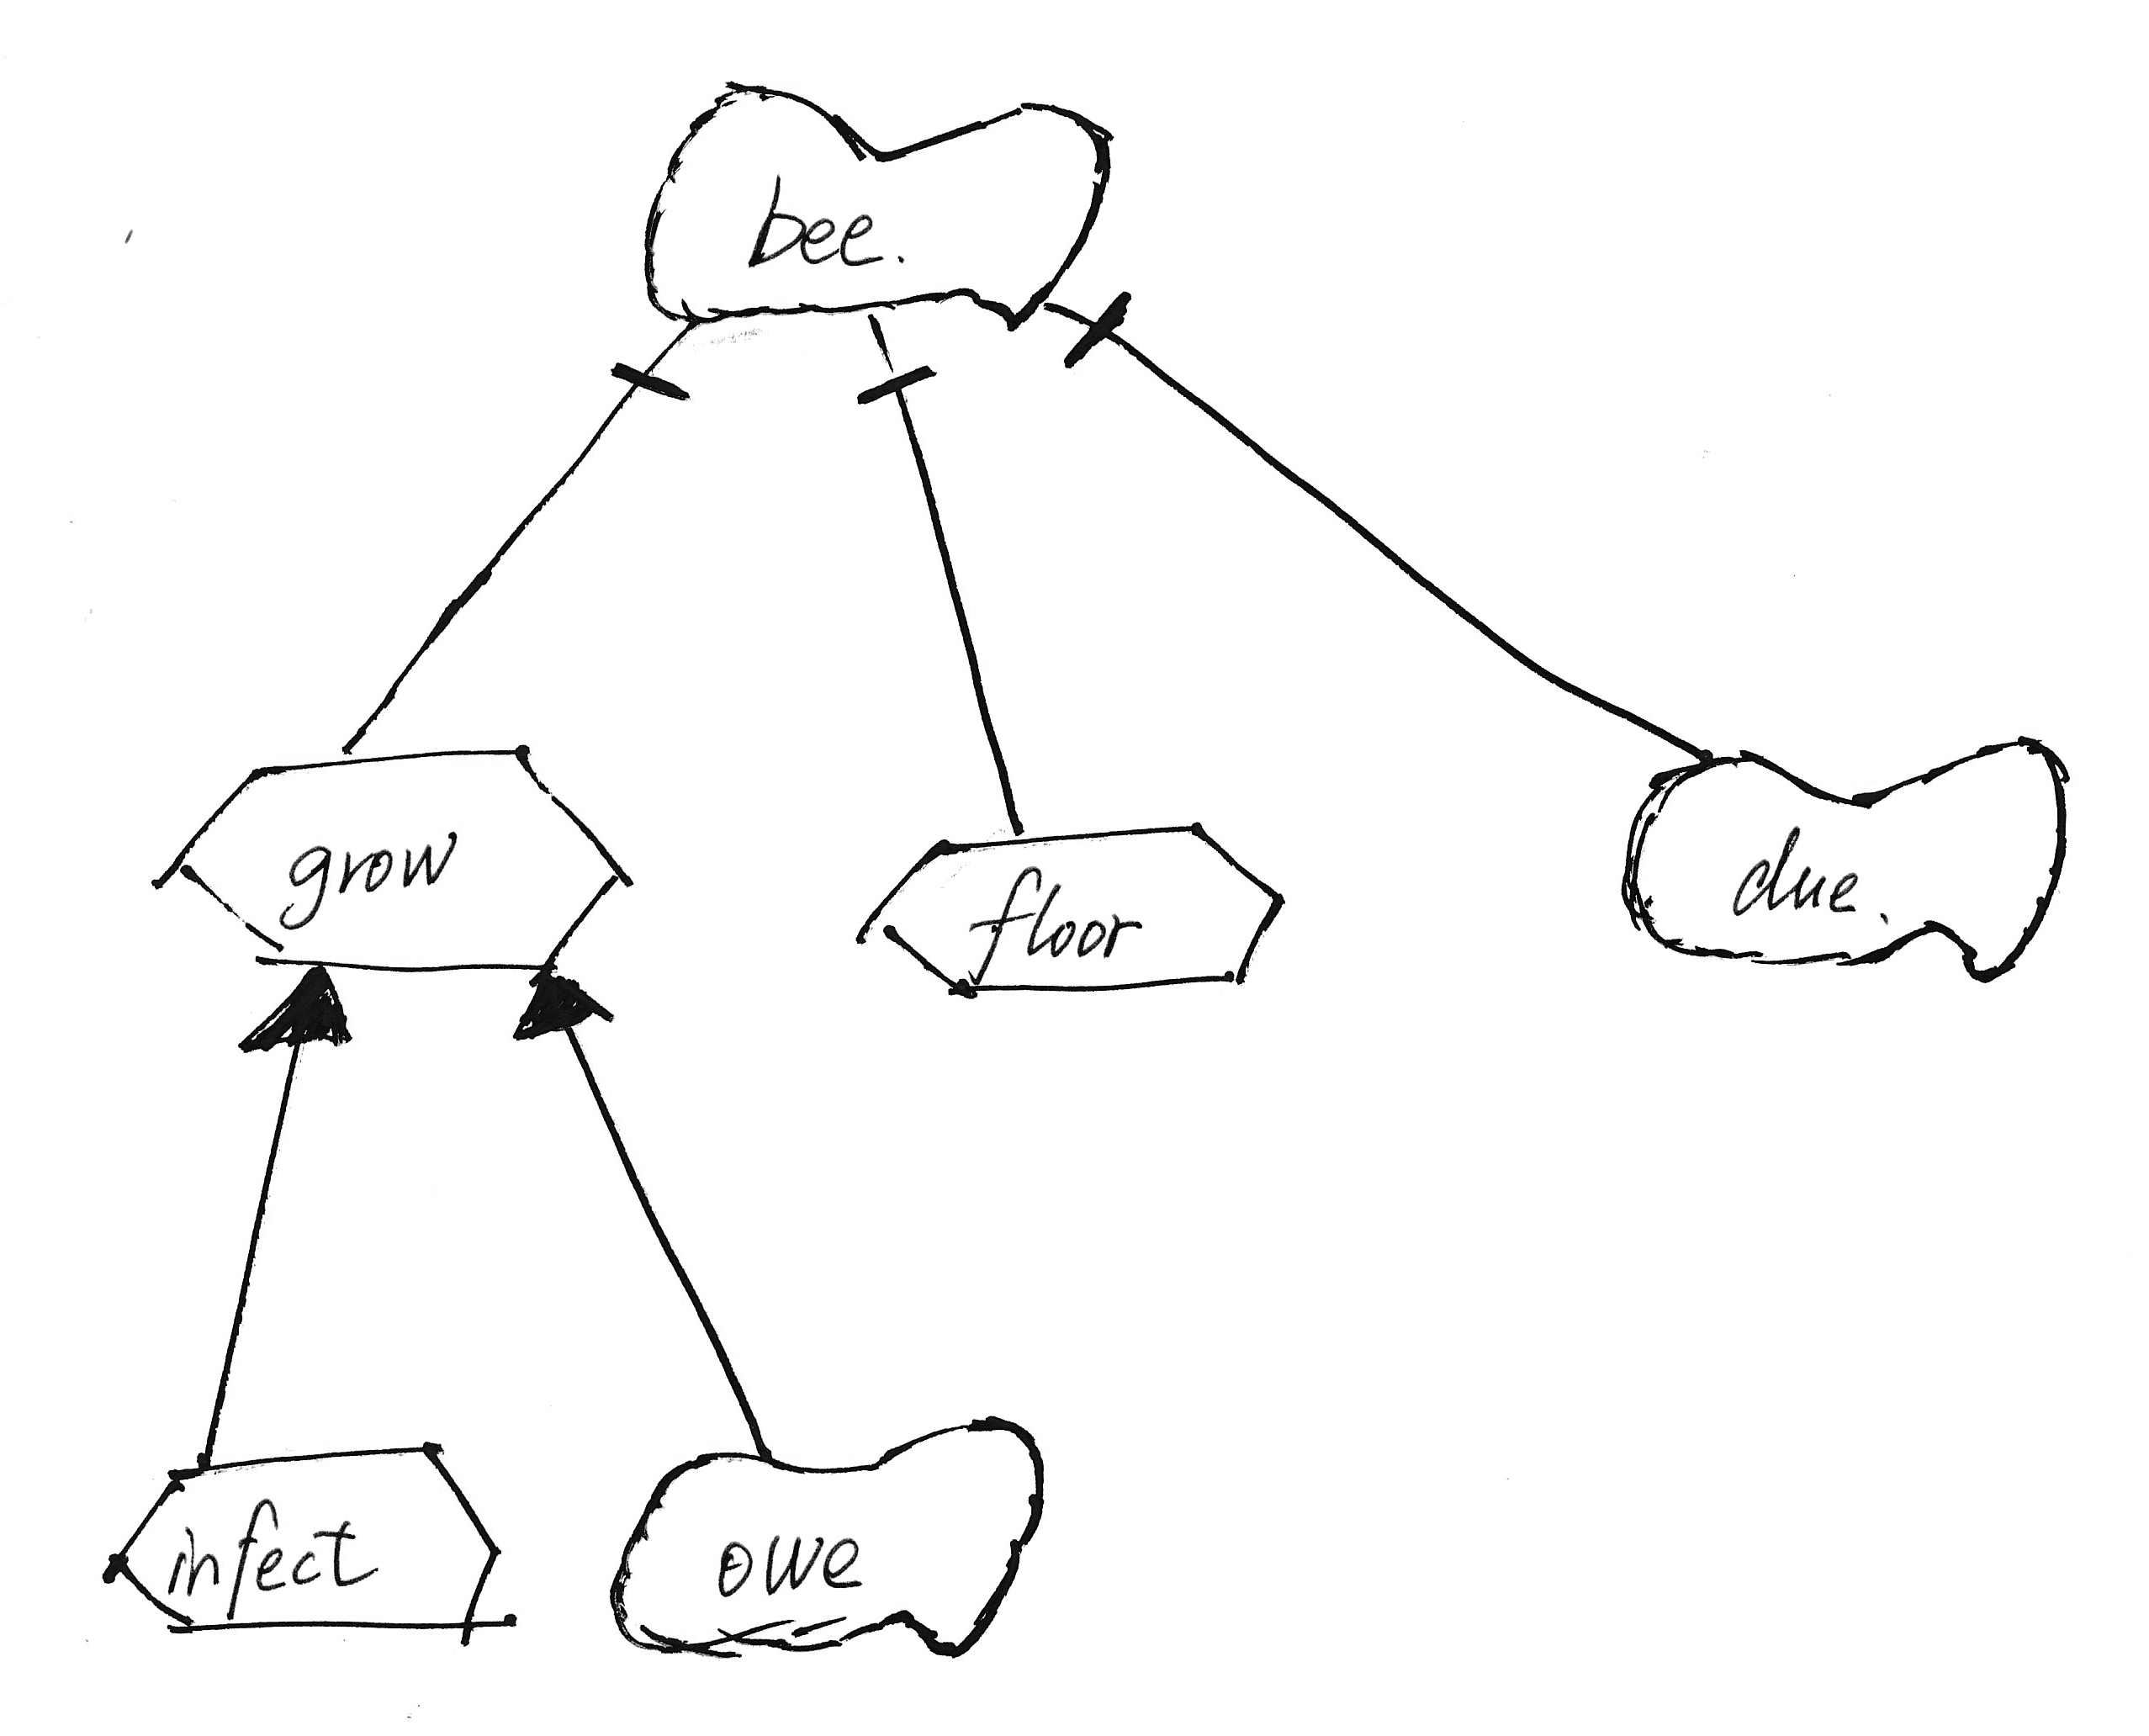and: (1024, 275, 1152, 372), (847, 298, 939, 418), (599, 308, 694, 411)
or: (234, 949, 369, 1066), (500, 949, 632, 1054)
quality: (627, 64, 1132, 337), (1603, 719, 2085, 997), (597, 1398, 1061, 1672)
task: (133, 726, 656, 999), (836, 802, 1307, 1019), (94, 1424, 516, 1649)
